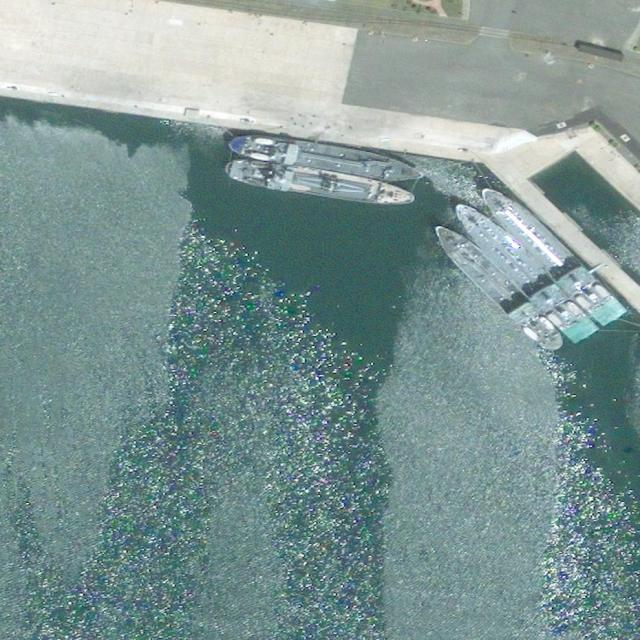Landing: (446, 193, 600, 348), (472, 179, 628, 330), (427, 215, 567, 360), (228, 130, 425, 184), (227, 156, 416, 209)
